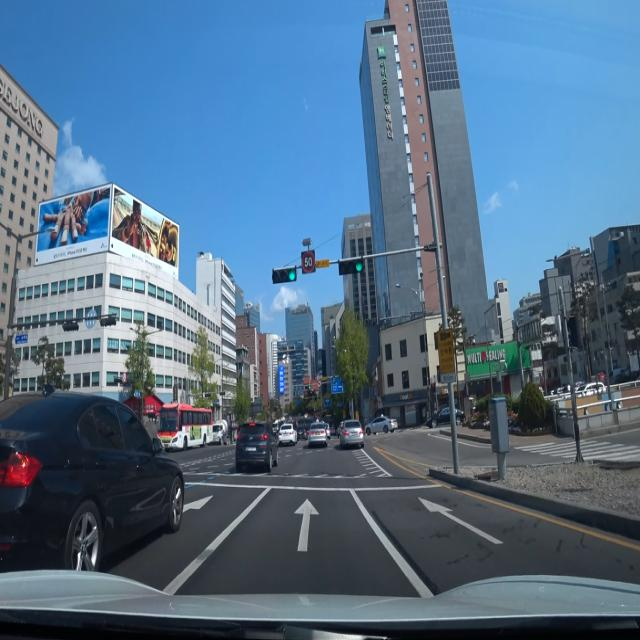Green Light: (288, 268, 297, 281), (355, 260, 364, 273)
